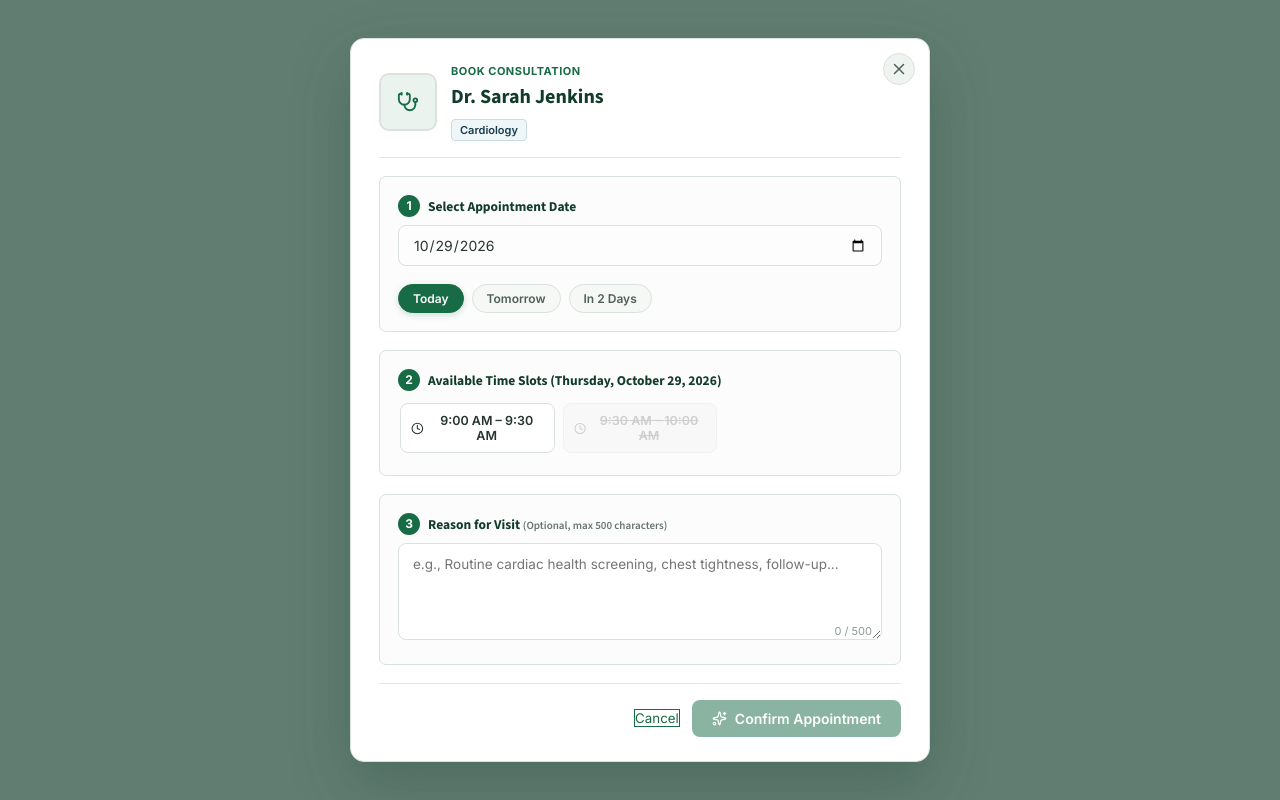
it: BookingModal Component › allows selecting a slot, typing a reason, and submitting booking successfully
The image size is (1280, 800).
Expected: the text "9:00 AM – 9:30 AM" is shown, [440,413,533,443]
# Select the available slot
Click the button "9:00 AM – 9:30 AM".
click(477, 428)  # box [400,403,555,453]
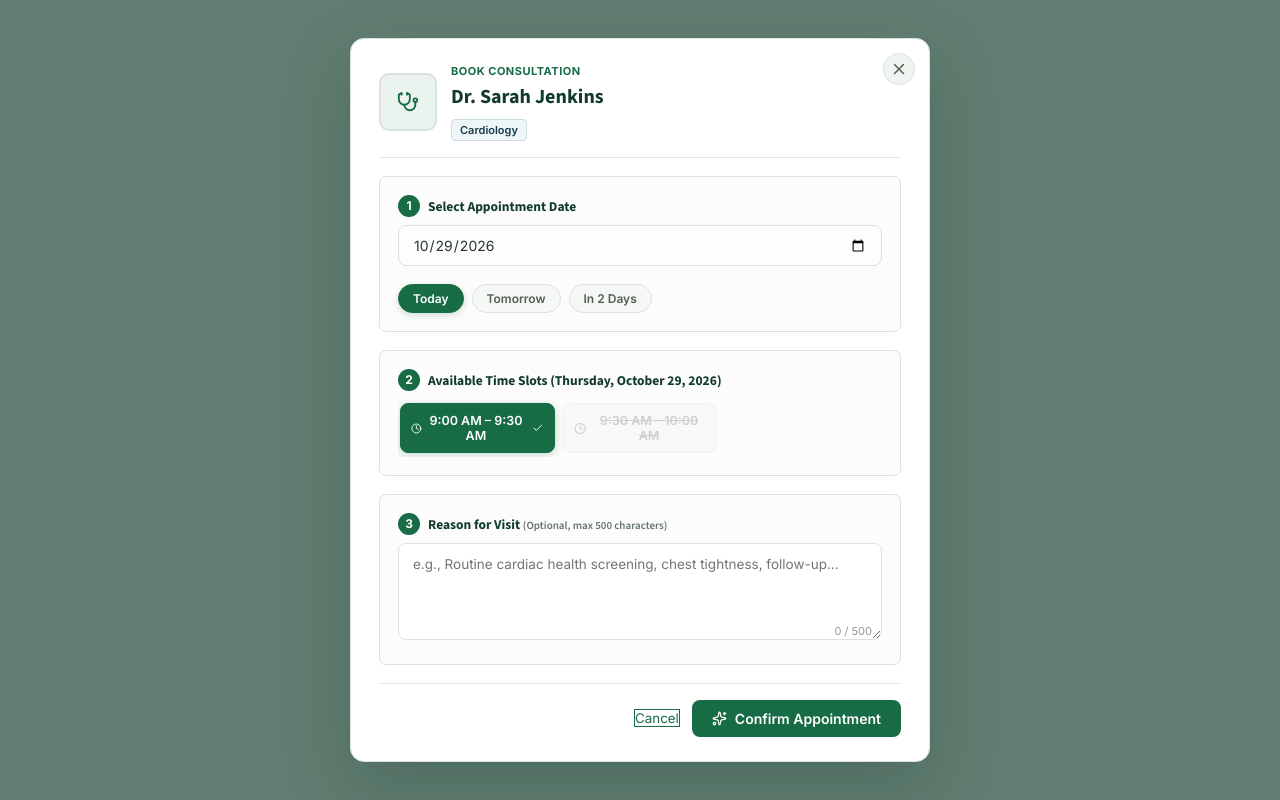
# Enter optional reason
Replace the text in the text box with placeholder "Routine cardiac health" with "Routine ECG examination" at (640, 592), box [398,543,882,640]
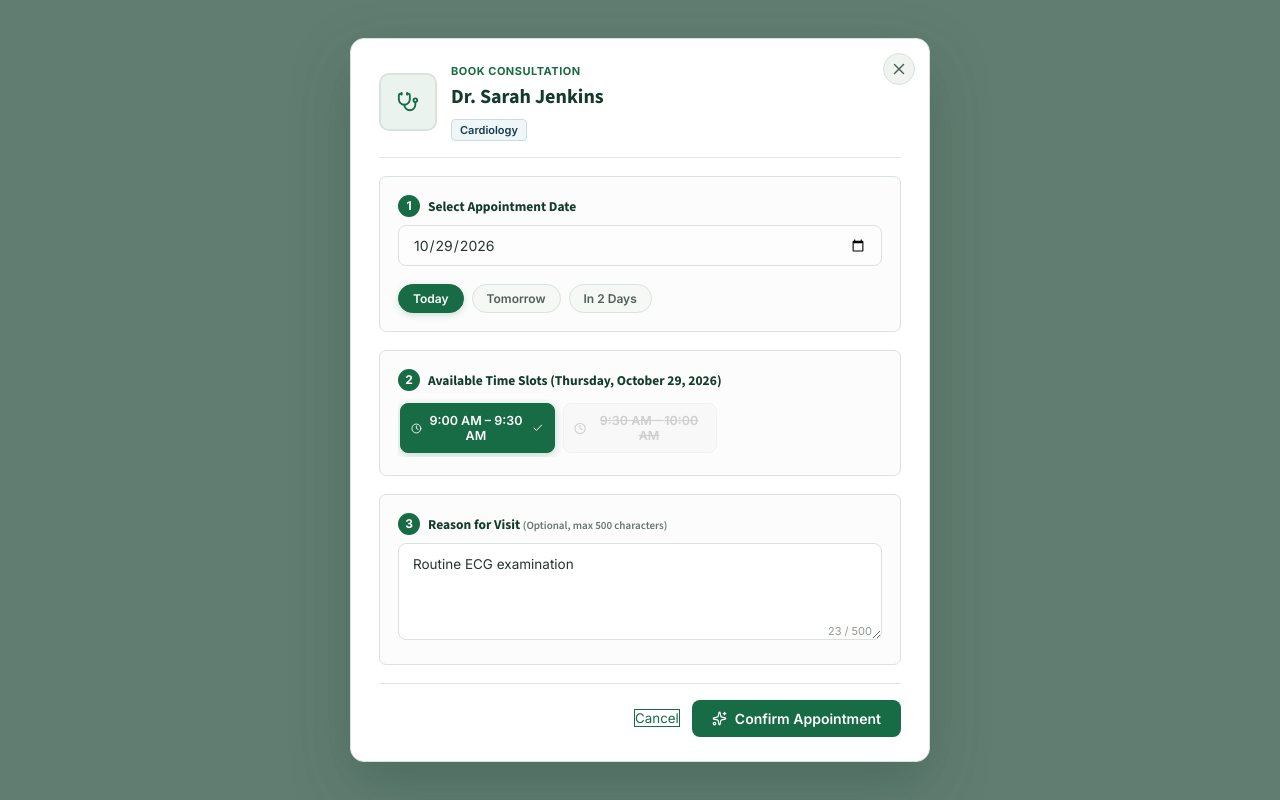
Expected: the button "Confirm Appointment" is enabled
Click the button "Confirm Appointment".
click(796, 718)  # box [692,700,901,737]
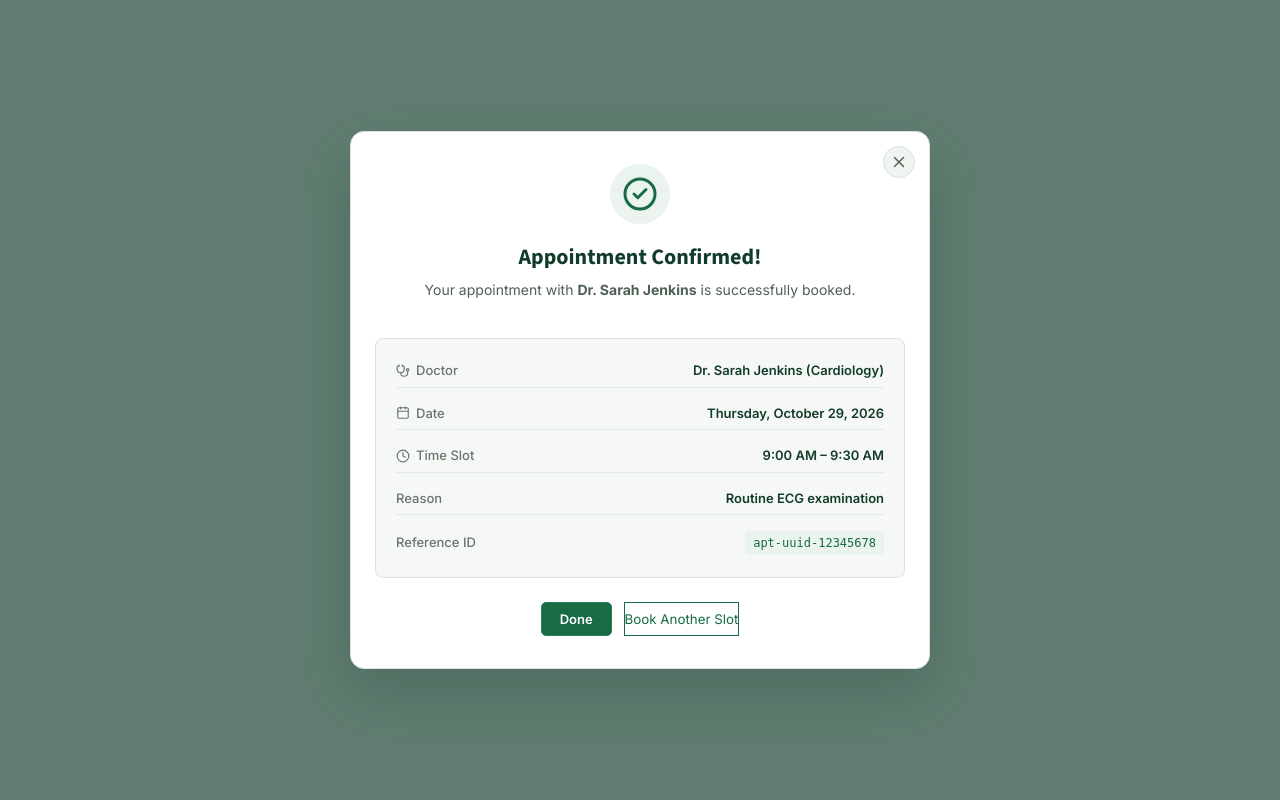
Expected: the heading "Appointment Confirmed!" is shown, [518,240,762,273]
Expected: the text "apt-uuid-12345678" is shown, [745,531,884,555]
Expected: the text "Routine ECG examination" is shown, [726,488,884,508]
